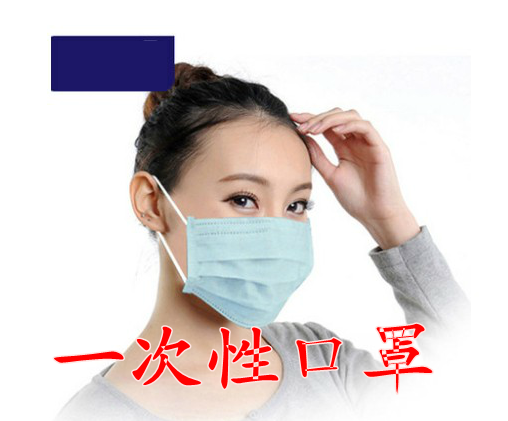face_mask: (167, 118, 322, 317)
